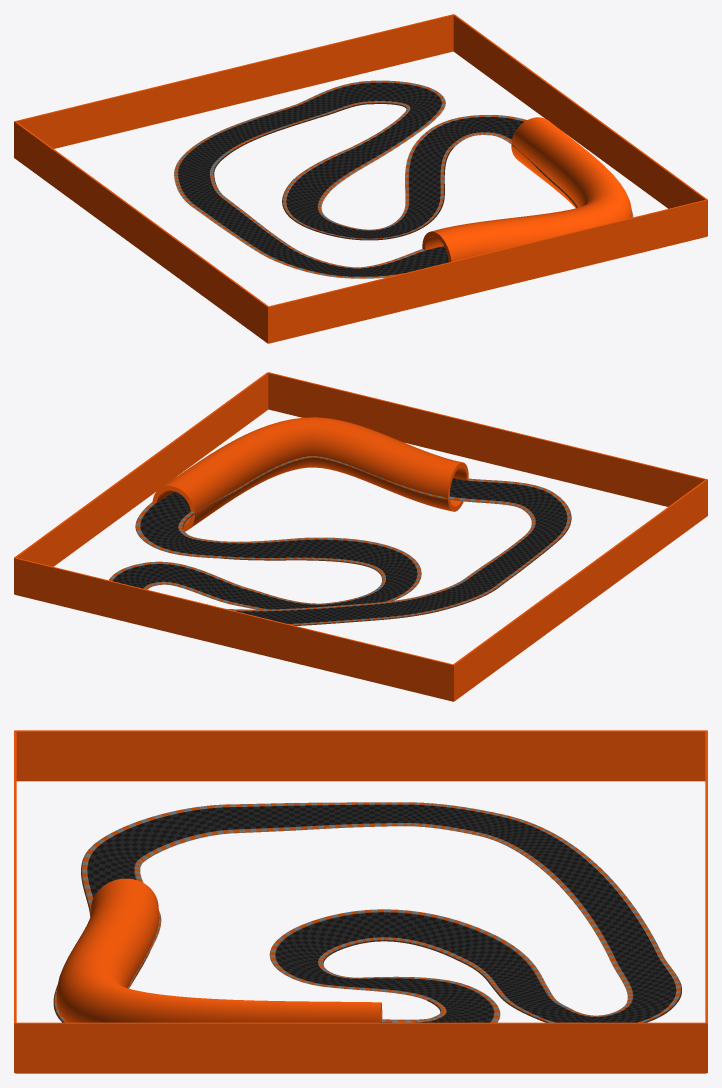
The model's file is track.glb.
3 views of the same model, one above another, from view 1: azimuth 30°, elevation 25°; view 2: azimuth 150°, elevation 25°; view 3: azimuth 270°, elevation 25° (orthographic). The views are drawn at different scales.
Parts seen in each view (by area): view 1: NODE_AddSplineMeshComponent-0_0, Cube5, Cube4, Cube6, Cube, Cube3, NODE_AddSplineMeshComponent-0, Cube2, Cube12, Cube11, Cube10, Cube8 (+35 smaller); view 2: NODE_AddSplineMeshComponent-0, NODE_AddSplineMeshComponent-0_0, Cube3, Cube, Cube2, Cube6, Cube5, Cube4, Cube10, Cube11, Cube12, Cube7 (+29 smaller); view 3: Cube11, Cube9, Cube7, Cube8, Cube12, Cube10, NODE_AddSplineMeshComponent-0, NODE_AddSplineMeshComponent-0_0, SplineMeshComponent_37, SplineMeshComponent_38, SplineMeshComponent_35, SplineMeshComponent_16 (+28 smaller).
Boxes of the visible parts, x1,y1,x2,y2 form: NODE_AddSplineMeshComponent-0_0: [511, 117, 632, 218]; Cube5: [560, 199, 707, 272]; Cube4: [268, 271, 415, 343]; Cube6: [414, 235, 561, 307]; Cube: [161, 50, 308, 122]; Cube3: [307, 14, 453, 86]; NODE_AddSplineMeshComponent-0: [422, 199, 626, 262]; Cube2: [15, 85, 161, 148]; Cube12: [183, 245, 268, 343]; Cube11: [98, 183, 184, 281]; Cube10: [14, 121, 99, 219]; Cube8: [453, 14, 538, 112]; NODE_AddSplineMeshComponent-0: [305, 417, 468, 511]; NODE_AddSplineMeshComponent-0_0: [152, 417, 310, 531]; Cube3: [14, 557, 161, 630]; Cube: [160, 593, 307, 665]; Cube2: [306, 629, 452, 701]; Cube6: [413, 408, 560, 480]; Cube5: [268, 372, 414, 444]; Cube4: [560, 443, 706, 506]; Cube10: [453, 603, 538, 701]; Cube11: [537, 541, 623, 639]; Cube12: [622, 479, 707, 577]; Cube7: [183, 372, 268, 470]; Cube11: [245, 730, 476, 781]; Cube9: [245, 1022, 476, 1073]; Cube7: [15, 1022, 245, 1073]; Cube8: [476, 1022, 706, 1073]; Cube12: [14, 730, 245, 781]; Cube10: [476, 730, 707, 781]; NODE_AddSplineMeshComponent-0: [56, 878, 159, 1022]; NODE_AddSplineMeshComponent-0_0: [78, 983, 382, 1022]; SplineMeshComponent_37: [154, 804, 233, 843]; SplineMeshComponent_38: [97, 816, 180, 861]; SplineMeshComponent_35: [81, 842, 143, 882]; SplineMeshComponent_16: [318, 909, 384, 947].
Size of what is drawn, in the model's own units: 253 by 32.98 by 253.
3 materials, 2 textured.
